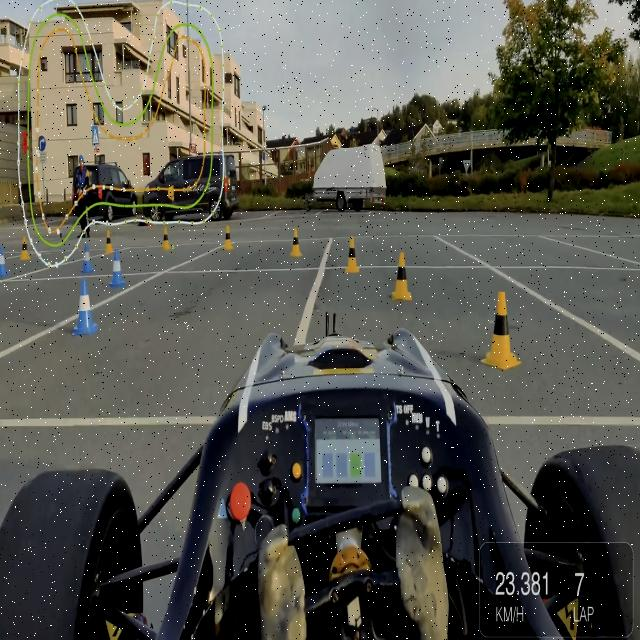blue_cone: (72, 278, 98, 340), (108, 250, 125, 292), (0, 245, 12, 283), (81, 242, 95, 274)
yellow_cone: (482, 290, 520, 368), (392, 253, 414, 306), (344, 236, 360, 278), (290, 228, 302, 260), (20, 235, 31, 263), (223, 225, 234, 252), (162, 228, 172, 254), (106, 230, 114, 256)
